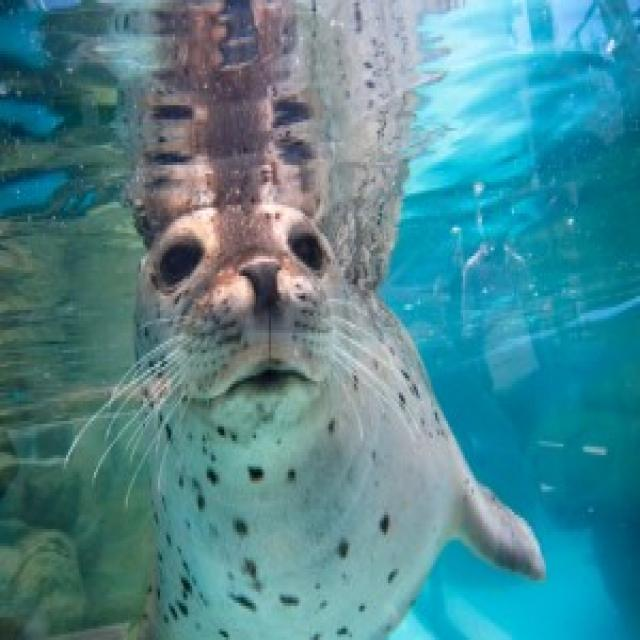Seal: (112, 193, 547, 640)
